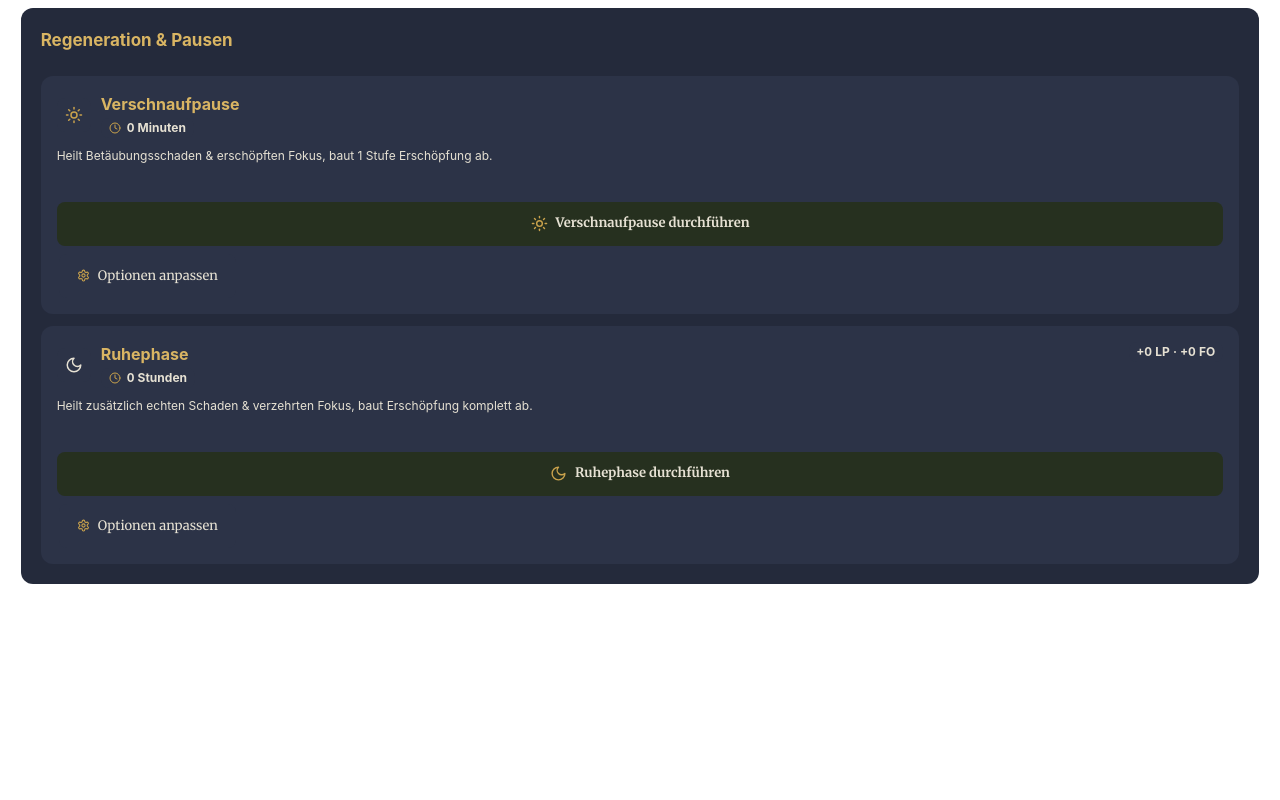
RestSection Component (Streamlined Regeneration & Pausen) › opens options modal when "Optionen anpassen" is clicked and allows custom adjustment
Expected: the text "Optionen: Verschnaufpause" is not shown
Click "Optionen anpassen" on Verschnaufpause card
Click the button "Optionen anpassen" below "0 Minuten".
click(147, 276)  # box [59, 254, 236, 298]
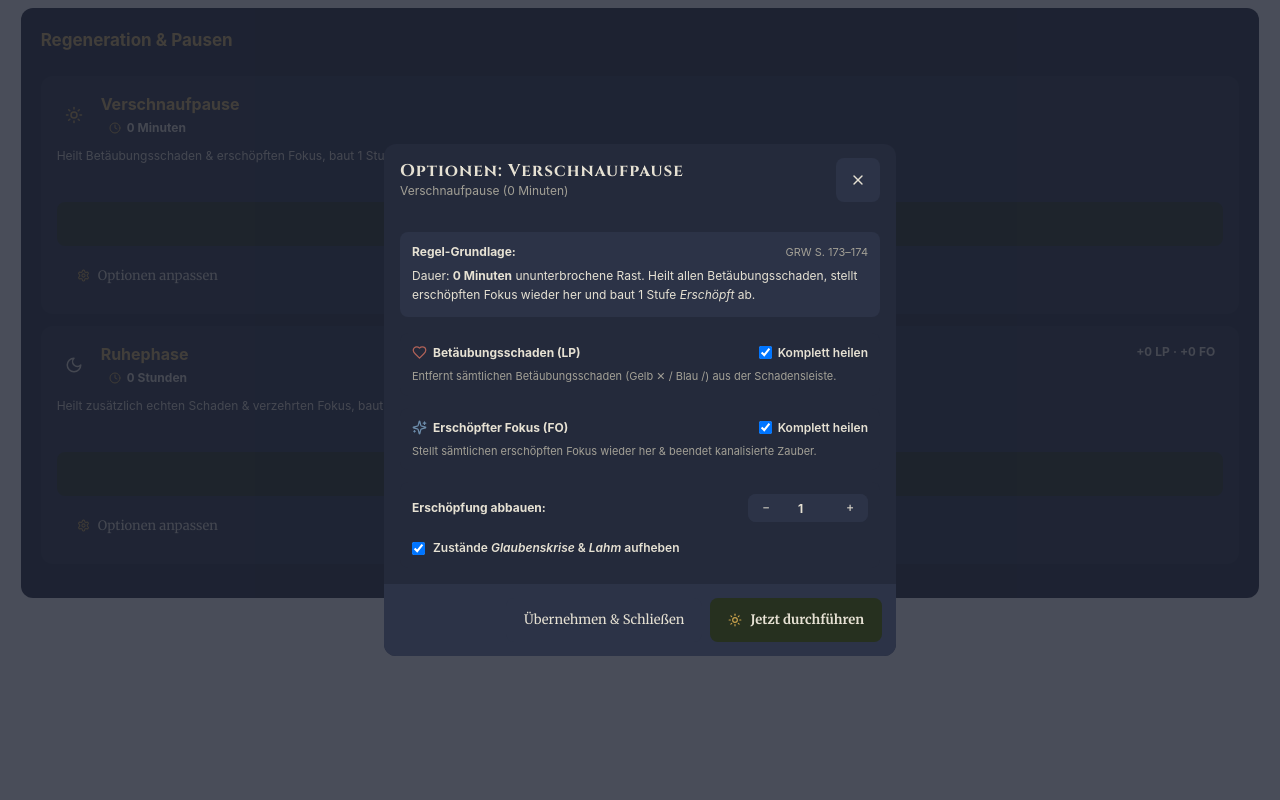
Now the heading "Optionen: Verschnaufpause" is shown, box [400, 160, 684, 182]
Now the text "GRW S. 173–174" is shown, box [786, 244, 868, 259]
Close button
Click the button "Übernehmen & Schließen".
click(604, 620)  # box [506, 598, 702, 642]
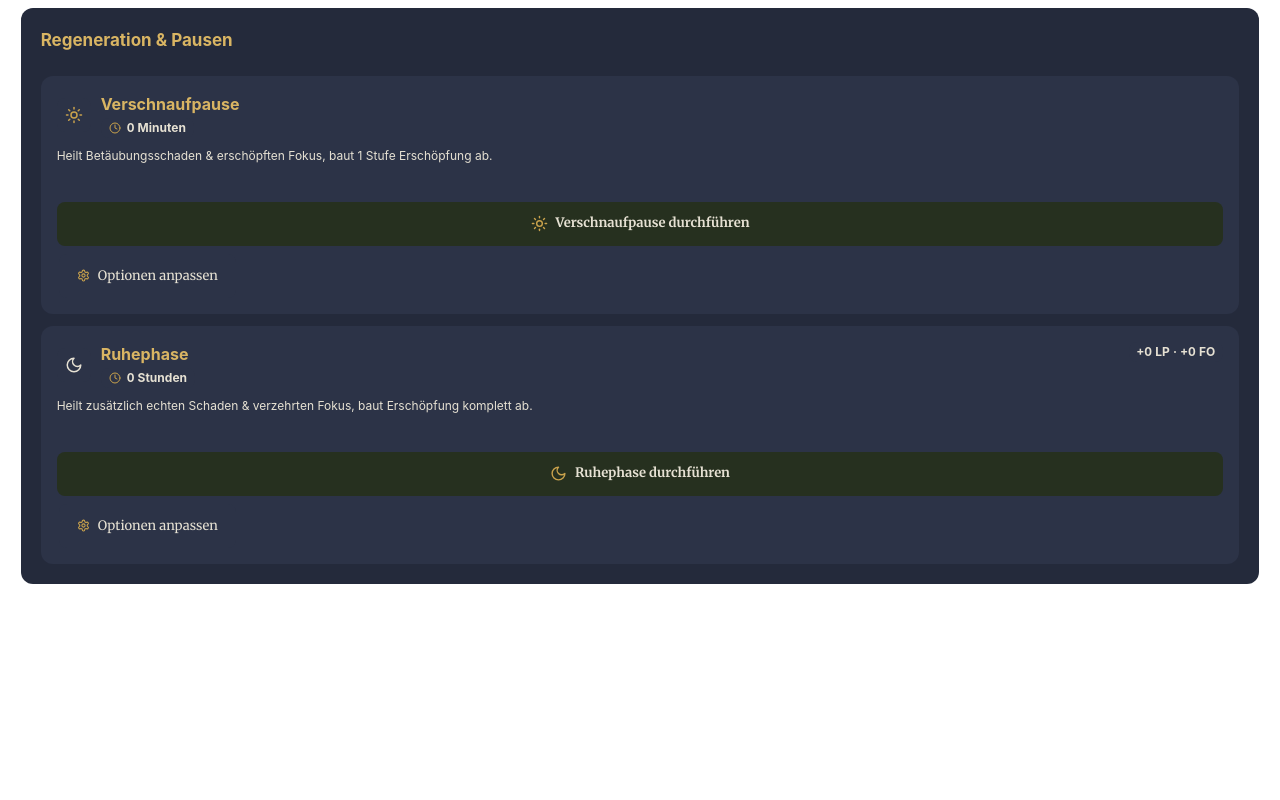
Now the heading "Optionen: Verschnaufpause" is gone
